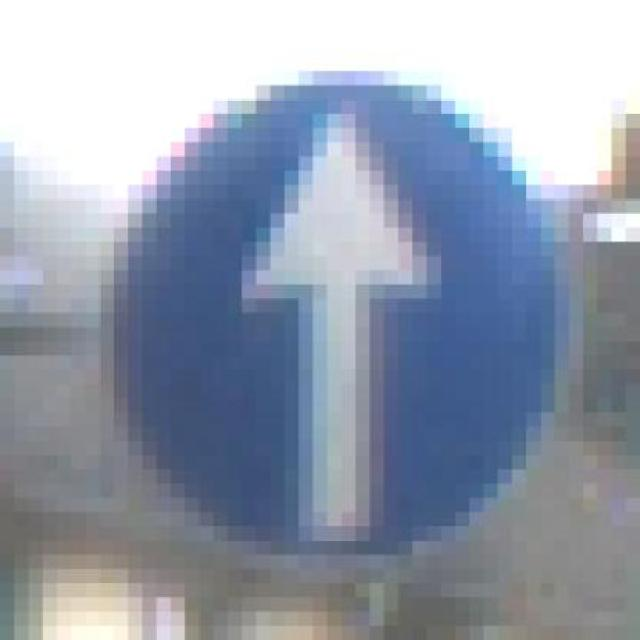Straight Ahead Only: (57, 56, 583, 598)
